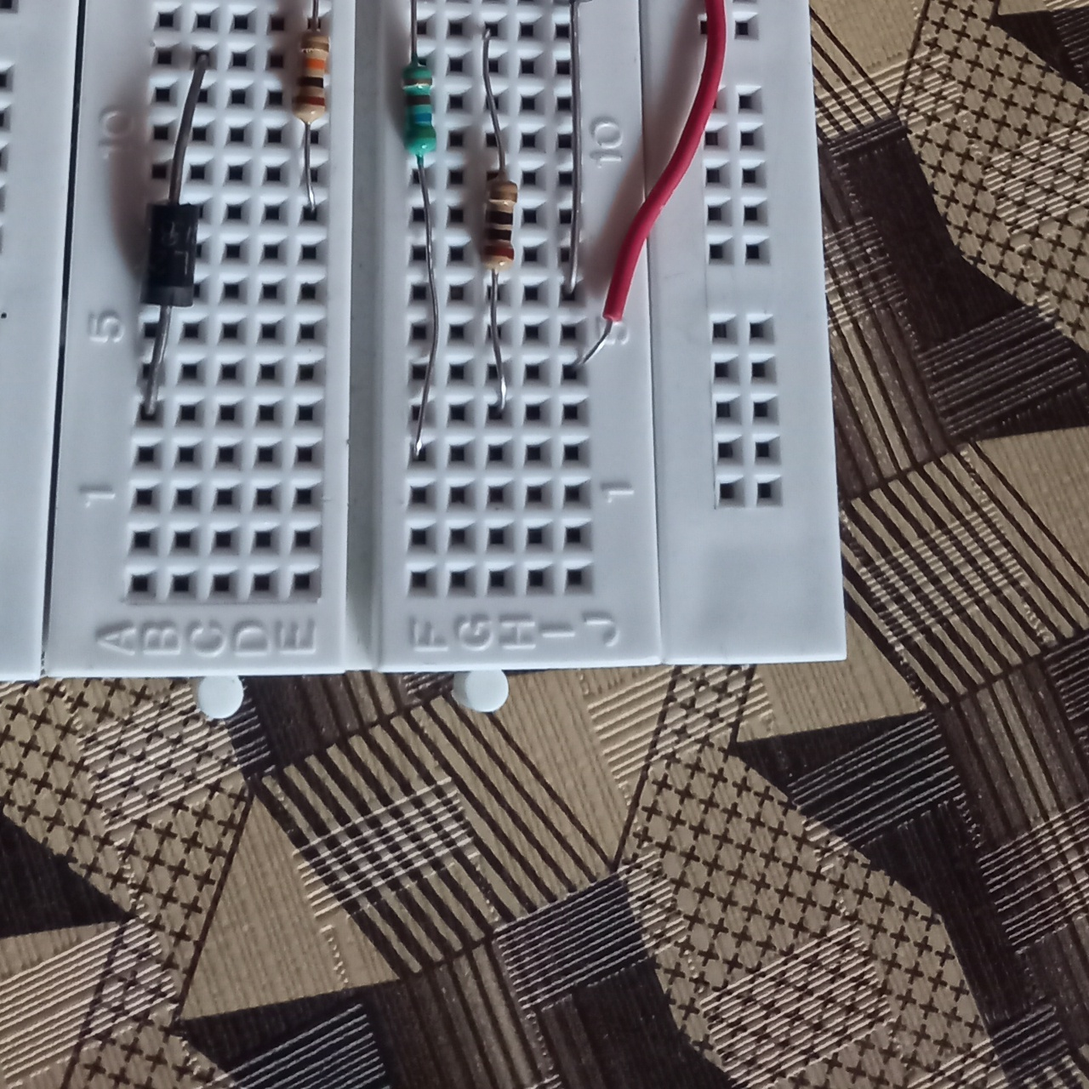resistor: (295, 17, 343, 139), (397, 48, 437, 165), (482, 170, 519, 292)
